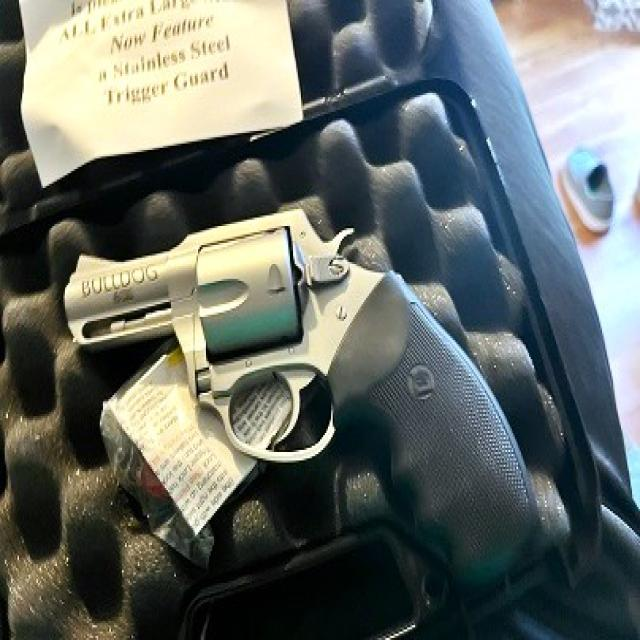Gun: (52, 208, 568, 612)
